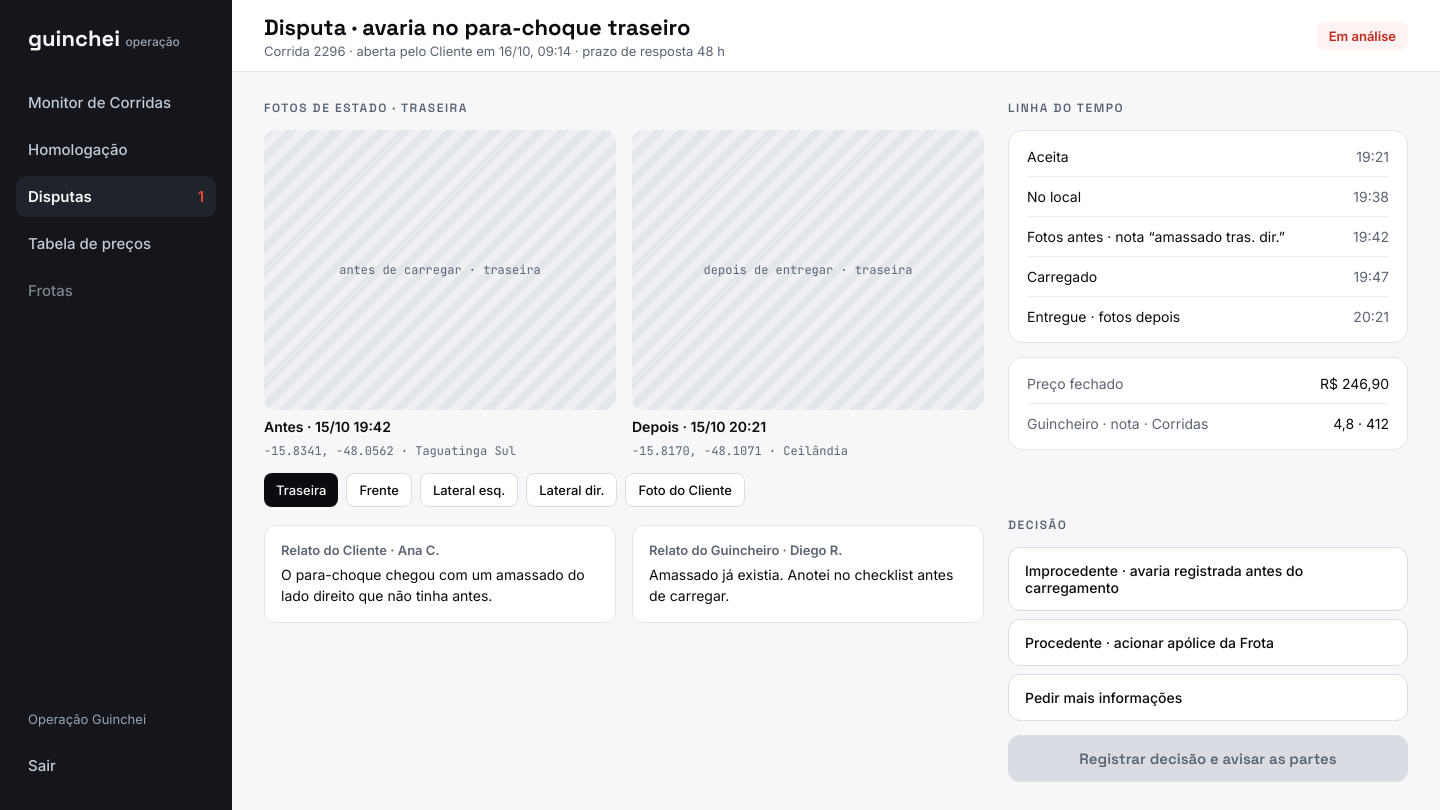
App painel › a Disputa mostra as Fotos de estado do lado escolhido
Expected: the navigation bar named "Painel de operação" is shown, [0,0,232,809]
Step 1. Click the button "Frente" → (379, 490), box [346,473,412,507]
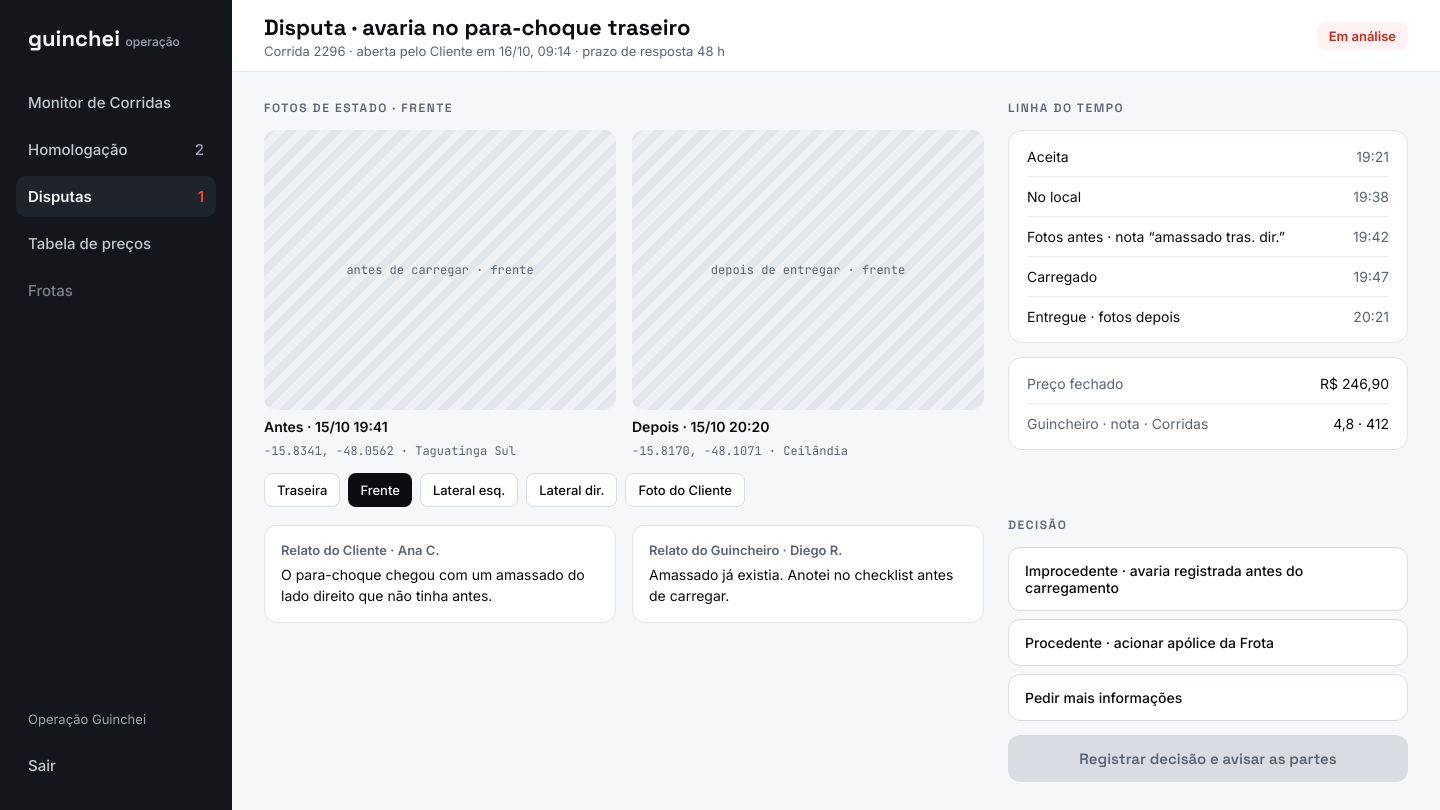
Expected: the text "antes de carregar · frente" is shown, [264,130,616,410]
Expected: the text "Antes · 15/10 19:41" is shown, [264,418,388,435]
Expected: the text "Antes · 15/10 19:42" is gone
